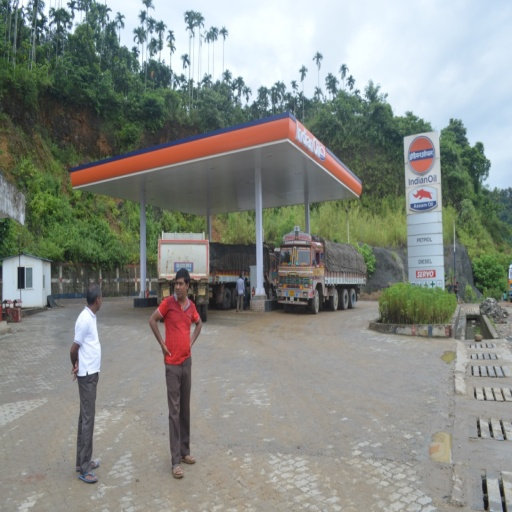roof: (69, 112, 365, 220)
